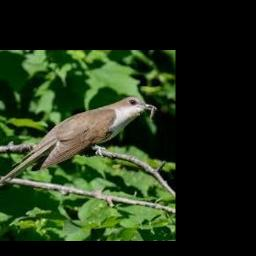Cuckoo: (0, 96, 156, 201)
